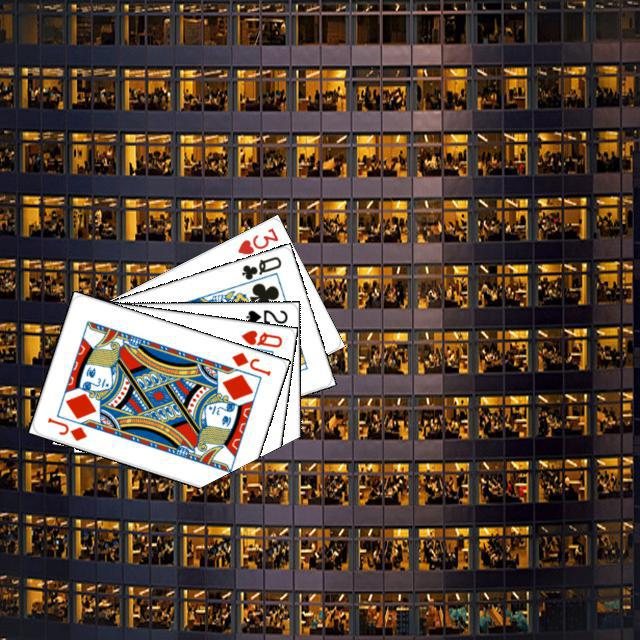2s: (241, 305, 289, 325)
3h: (232, 223, 280, 256)
Jd: (43, 412, 89, 443), (227, 347, 272, 378)
Qc: (235, 251, 283, 287)
Qh: (236, 325, 284, 349)
